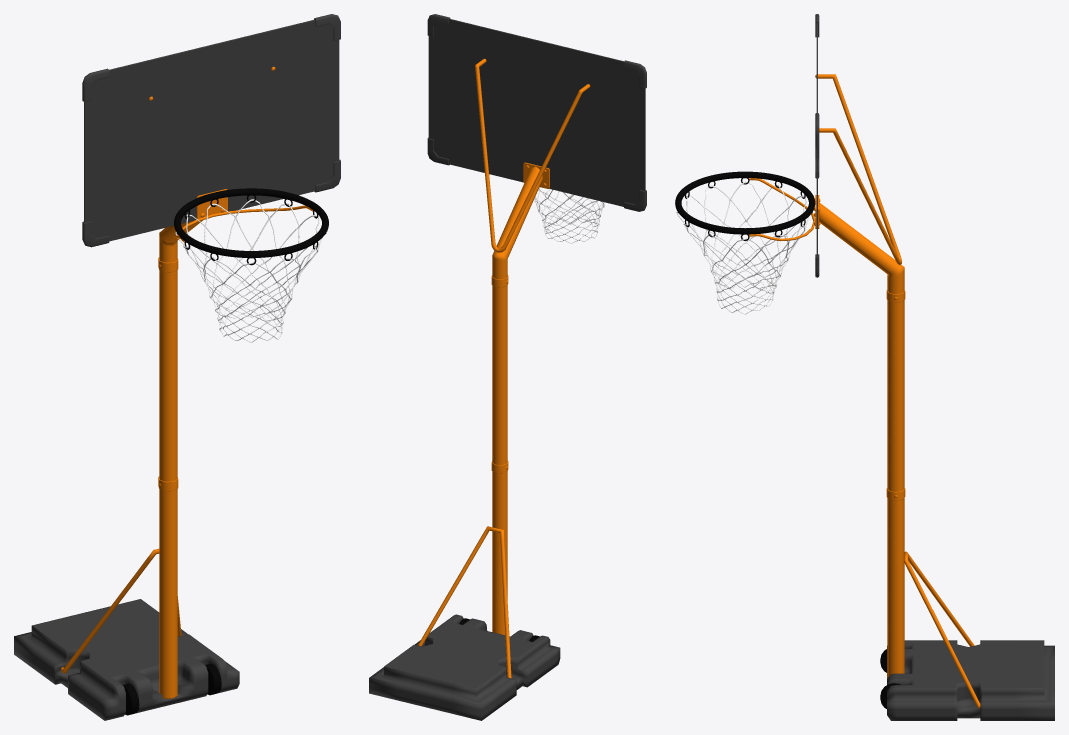
The model's file is BasketBallHoop.glb.
3 views of the same model, side by side, from view 1: azimuth 30°, elevation 25°; view 2: azimuth 150°, elevation 25°; view 3: azimuth 270°, elevation 25° (orthographic). The views are drawn at different scales.
Visible parts, largest first — view 1: HoopBoard, BaseStand, Tube, Net, HoopRing, Wheels; view 2: HoopBoard, BaseStand, Tube, Net; view 3: Tube, BaseStand, Net, HoopRing, HoopBoard.
Part boxes in pixels (<box>): HoopBoard: <box>82,14,340,247</box>; BaseStand: <box>14,599,239,720</box>; Tube: <box>61,189,312,698</box>; Net: <box>175,199,327,342</box>; HoopRing: <box>174,188,328,265</box>; Wheels: <box>122,663,221,715</box>; HoopBoard: <box>427,14,646,211</box>; BaseStand: <box>369,614,560,720</box>; Tube: <box>418,58,590,678</box>; Net: <box>533,187,604,243</box>; Tube: <box>749,74,980,708</box>; BaseStand: <box>887,640,1054,720</box>; Net: <box>676,181,813,314</box>; HoopRing: <box>675,171,815,240</box>; HoopBoard: <box>815,14,819,277</box>.
Bounding box in the file's own units: 1 × 2.57 × 1.42.
